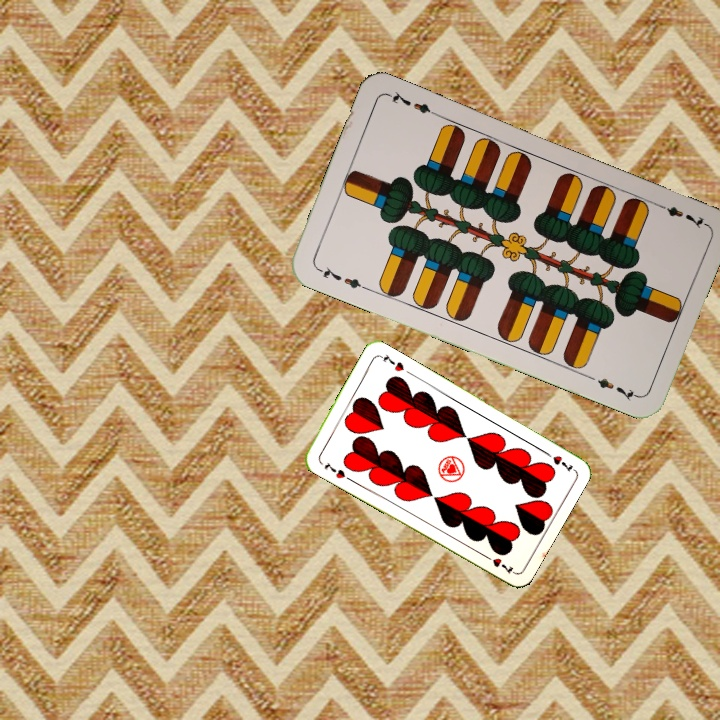E7: (313, 262, 370, 293), (651, 199, 708, 230)
H7: (540, 447, 576, 475), (320, 458, 348, 481)
